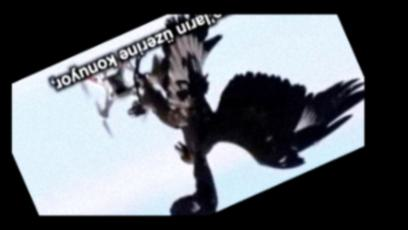Bird: (125, 11, 367, 216)
UAV: (77, 55, 157, 114)
